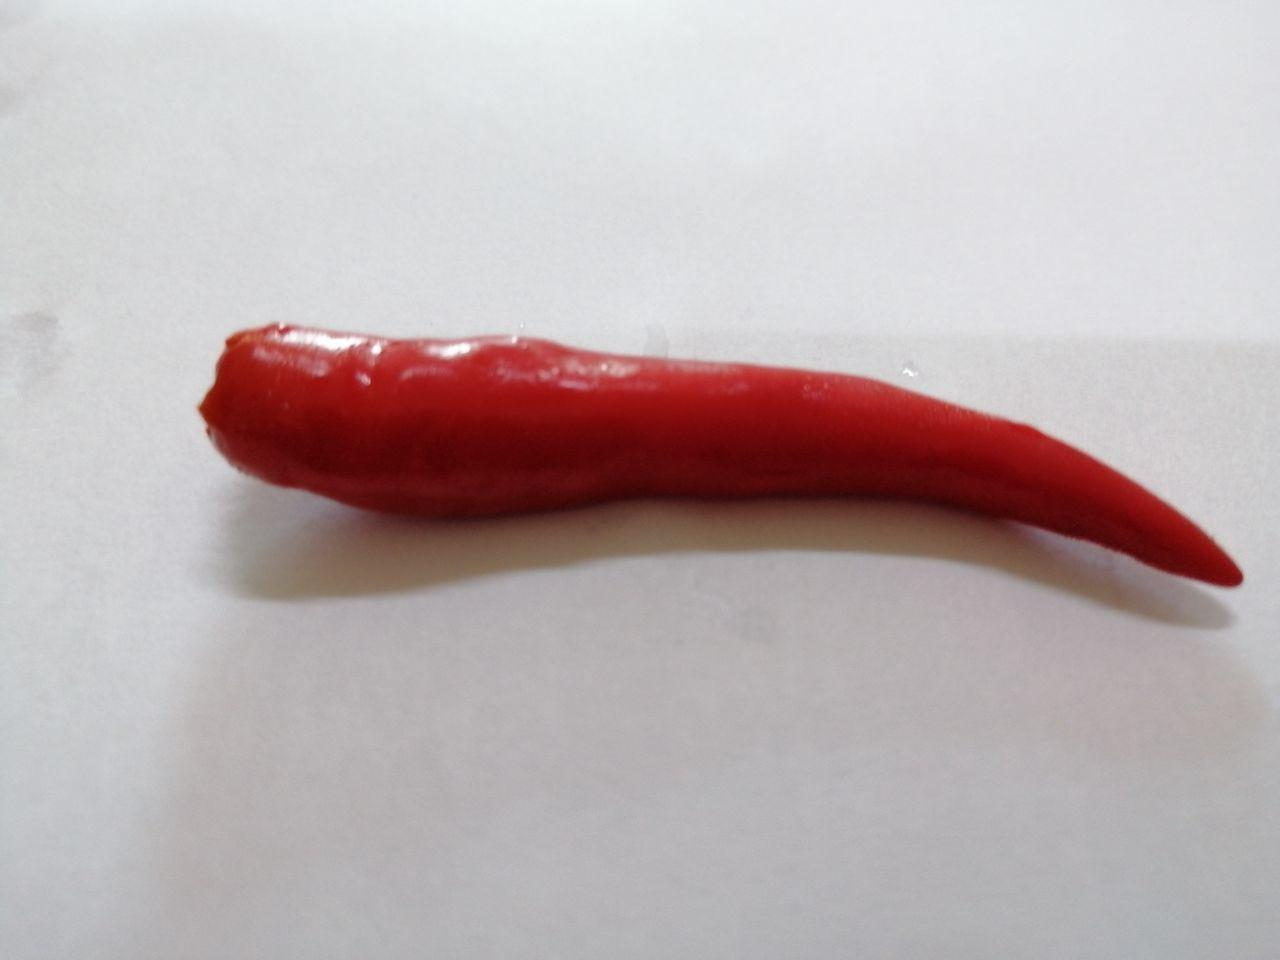lada merah: (174, 277, 1259, 655)
